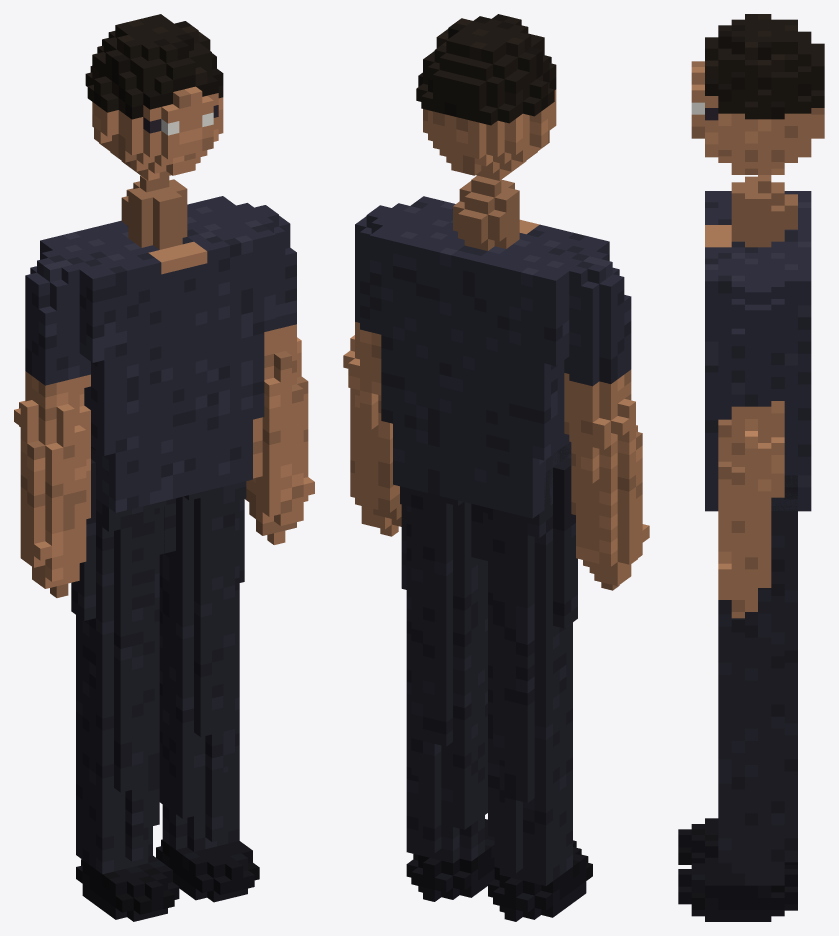
The picture shows the model from 3 angles, left to right: view 1: azimuth 30°, elevation 25°; view 2: azimuth 150°, elevation 25°; view 3: azimuth 270°, elevation 25°; orthographic projection.
Visible parts, largest first — view 1: vox_op.torso, vox_op.head, vox_op.shinR, vox_op.armR, vox_op.shinL, vox_op.legR, vox_op.armL, vox_op.legL; view 2: vox_op.torso, vox_op.head, vox_op.armR, vox_op.shinR, vox_op.shinL, vox_op.legR, vox_op.legL, vox_op.armL; view 3: vox_op.head, vox_op.shinL, vox_op.armL, vox_op.torso, vox_op.legL, vox_op.shinR.
Part boxes in pixels (x1=…): vox_op.torso: x1=40, y1=196, x2=275, y2=512; vox_op.head: x1=85, y1=14, x2=223, y2=249; vox_op.shinR: x1=76, y1=652, x2=179, y2=921; vox_op.armR: x1=14, y1=250, x2=90, y2=597; vox_op.shinL: x1=156, y1=635, x2=259, y2=902; vox_op.legR: x1=71, y1=446, x2=166, y2=672; vox_op.armL: x1=231, y1=203, x2=314, y2=544; vox_op.legL: x1=159, y1=481, x2=246, y2=653; vox_op.torso: x1=370, y1=196, x2=609, y2=518; vox_op.head: x1=416, y1=14, x2=556, y2=250; vox_op.armR: x1=564, y1=251, x2=649, y2=590; vox_op.shinR: x1=488, y1=660, x2=592, y2=921; vox_op.shinL: x1=406, y1=642, x2=494, y2=901; vox_op.legR: x1=481, y1=443, x2=577, y2=681; vox_op.legL: x1=400, y1=486, x2=487, y2=661; vox_op.armL: x1=343, y1=203, x2=414, y2=536; vox_op.head: x1=691, y1=14, x2=824, y2=247; vox_op.shinL: x1=678, y1=675, x2=797, y2=921; vox_op.armL: x1=718, y1=275, x2=784, y2=618; vox_op.torso: x1=705, y1=191, x2=811, y2=511; vox_op.legL: x1=718, y1=475, x2=797, y2=680; vox_op.shinR: x1=678, y1=818, x2=797, y2=868.
Bounding box in the file's own units: 0.6 × 1.78 × 0.275.
